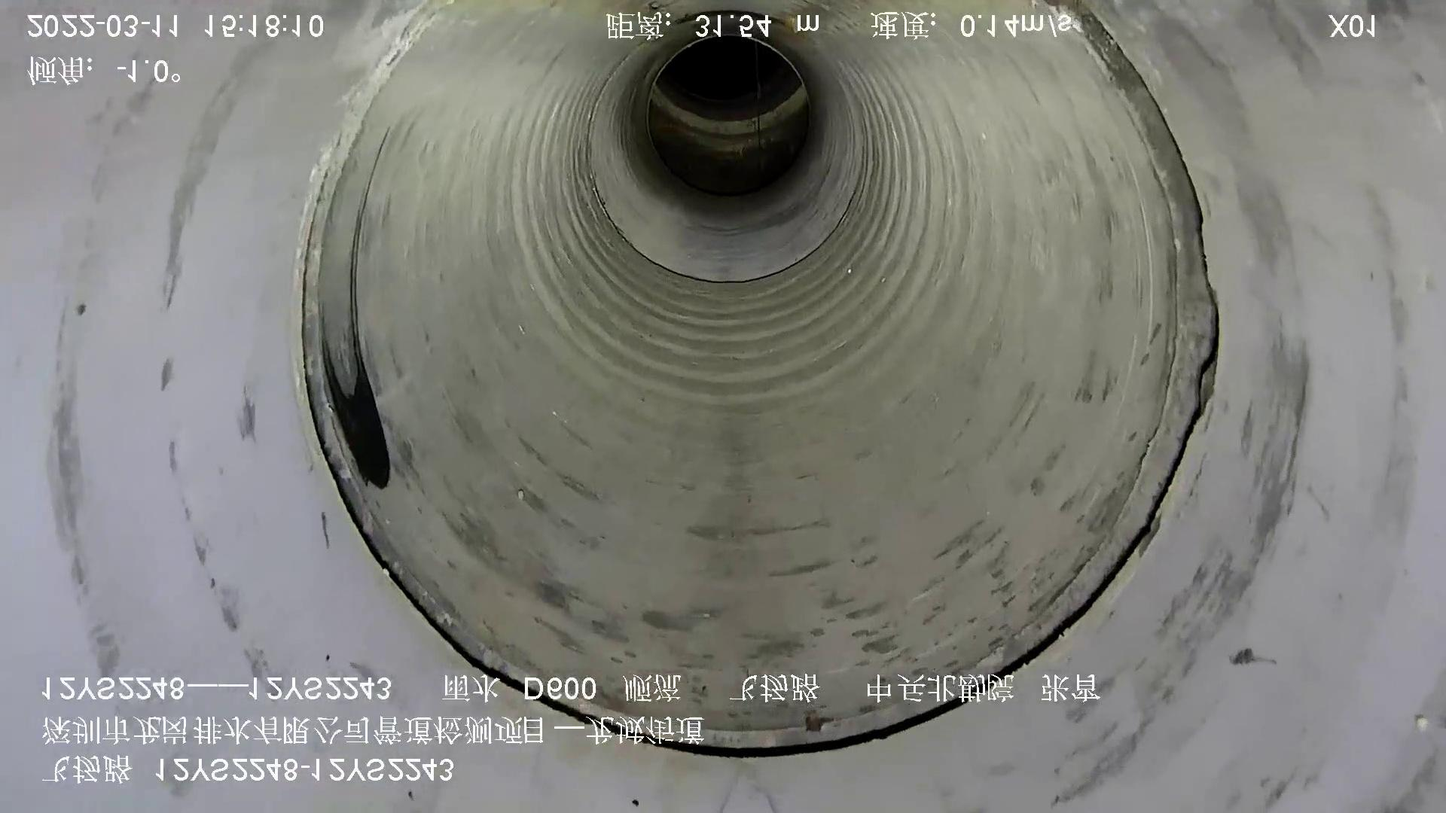CKTJ: (294, 1, 1221, 766), (585, 109, 865, 289)
